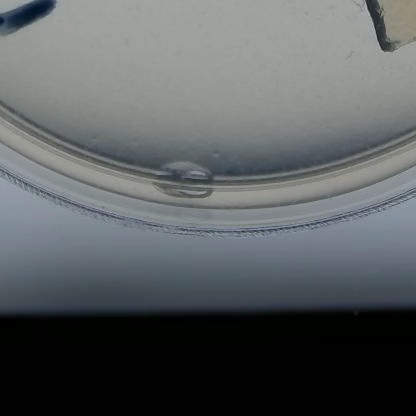worm: (333, 46, 357, 60)
